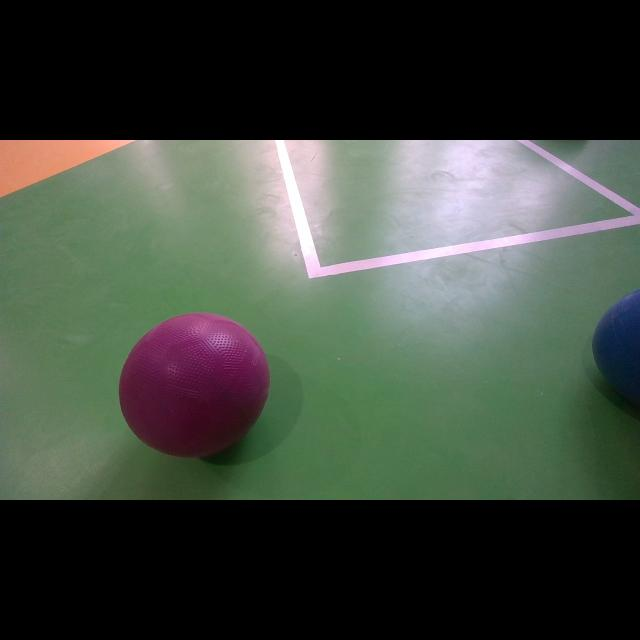P: (118, 312, 270, 458)
